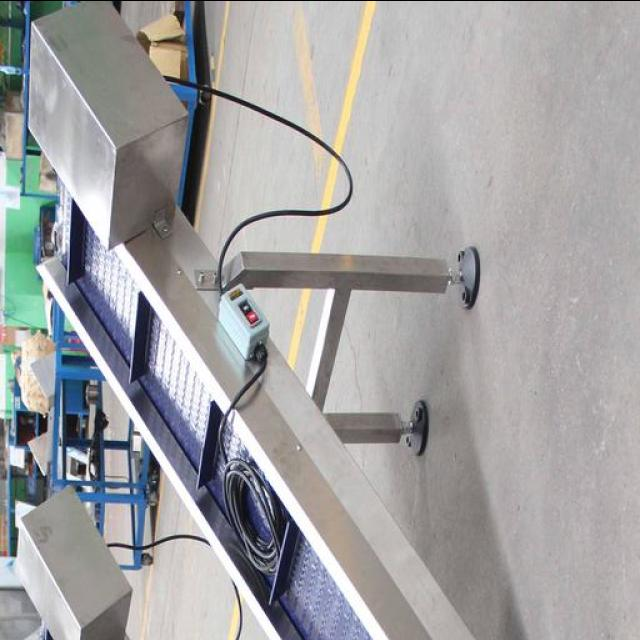conveyor: (54, 181, 385, 640)
